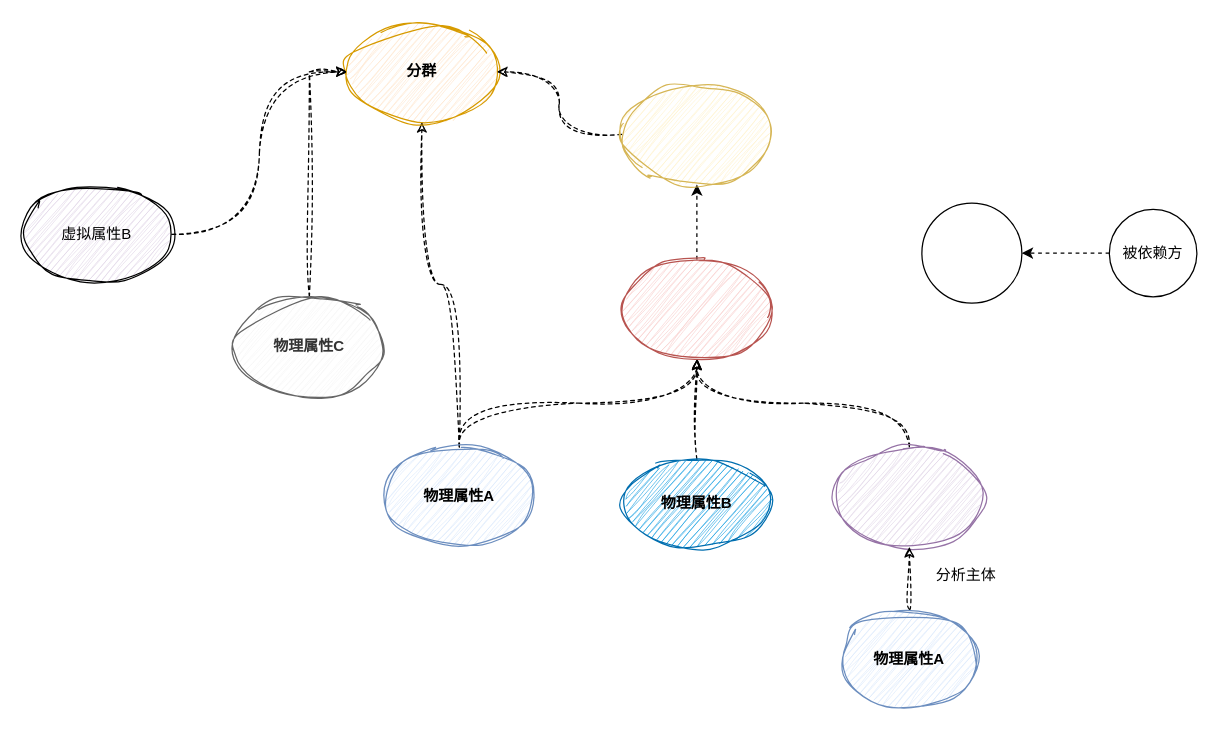
Image size: 1219x731. Some labels were removed from this diagram. The shapes that lost their labels are listed below. From the top down, each one's centre as x and y in pixels, then its label:
At (x=696, y=133): "维度属性".
At (x=971, y=252): "依赖方".
At (x=696, y=308): "虚拟属性A".
At (x=908, y=496): "标签".
